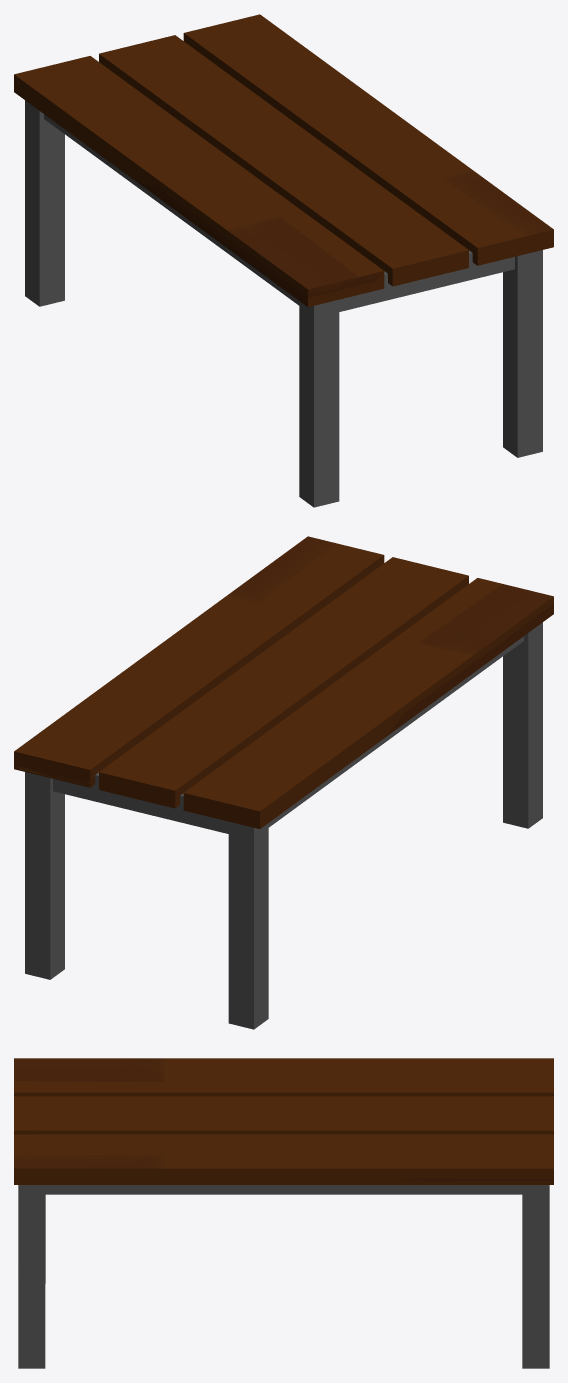
The model's file is Table.fbx.
The picture shows the model from 3 angles, top to bottom: view 1: azimuth 30°, elevation 25°; view 2: azimuth 150°, elevation 25°; view 3: azimuth 270°, elevation 25°; orthographic projection. The views are drawn at different scales.
Visible parts, largest first — view 1: Cube.001, Cube.002, Cube, Cube.009, Cube.010, Cube.008, Cube.006, Cube.003; view 2: Cube.001, Cube.002, Cube, Cube.008, Cube.007, Cube.009, Cube.005, Cube.003; view 3: Cube.002, Cube, Cube.001, Cube.007, Cube.010, Cube.004.
Boxes of the visible parts, left/top/right/bottom form: Cube.001: left=14, top=56, right=384, bottom=306; Cube.002: left=183, top=14, right=553, bottom=265; Cube: left=99, top=35, right=468, bottom=286; Cube.009: left=299, top=300, right=339, bottom=507; Cube.010: left=503, top=250, right=542, bottom=457; Cube.008: left=25, top=100, right=64, bottom=306; Cube.006: left=339, top=250, right=514, bottom=311; Cube.003: left=44, top=114, right=299, bottom=305; Cube.001: left=183, top=578, right=553, bottom=828; Cube.002: left=14, top=536, right=384, bottom=787; Cube: left=99, top=557, right=468, bottom=808; Cube.008: left=228, top=822, right=268, bottom=1029; Cube.007: left=25, top=772, right=64, bottom=979; Cube.009: left=503, top=622, right=542, bottom=828; Cube.005: left=53, top=772, right=228, bottom=833; Cube.003: left=268, top=636, right=523, bottom=827; Cube.002: left=14, top=1134, right=553, bottom=1184; Cube: left=14, top=1096, right=553, bottom=1134; Cube.001: left=14, top=1058, right=553, bottom=1096; Cube.007: left=522, top=1185, right=549, bottom=1368; Cube.010: left=18, top=1185, right=45, bottom=1368; Cube.004: left=45, top=1185, right=522, bottom=1194.
Bounding box in the file's own units: 290 × 250 × 600.
Materials: 2 (1 with a texture image).
